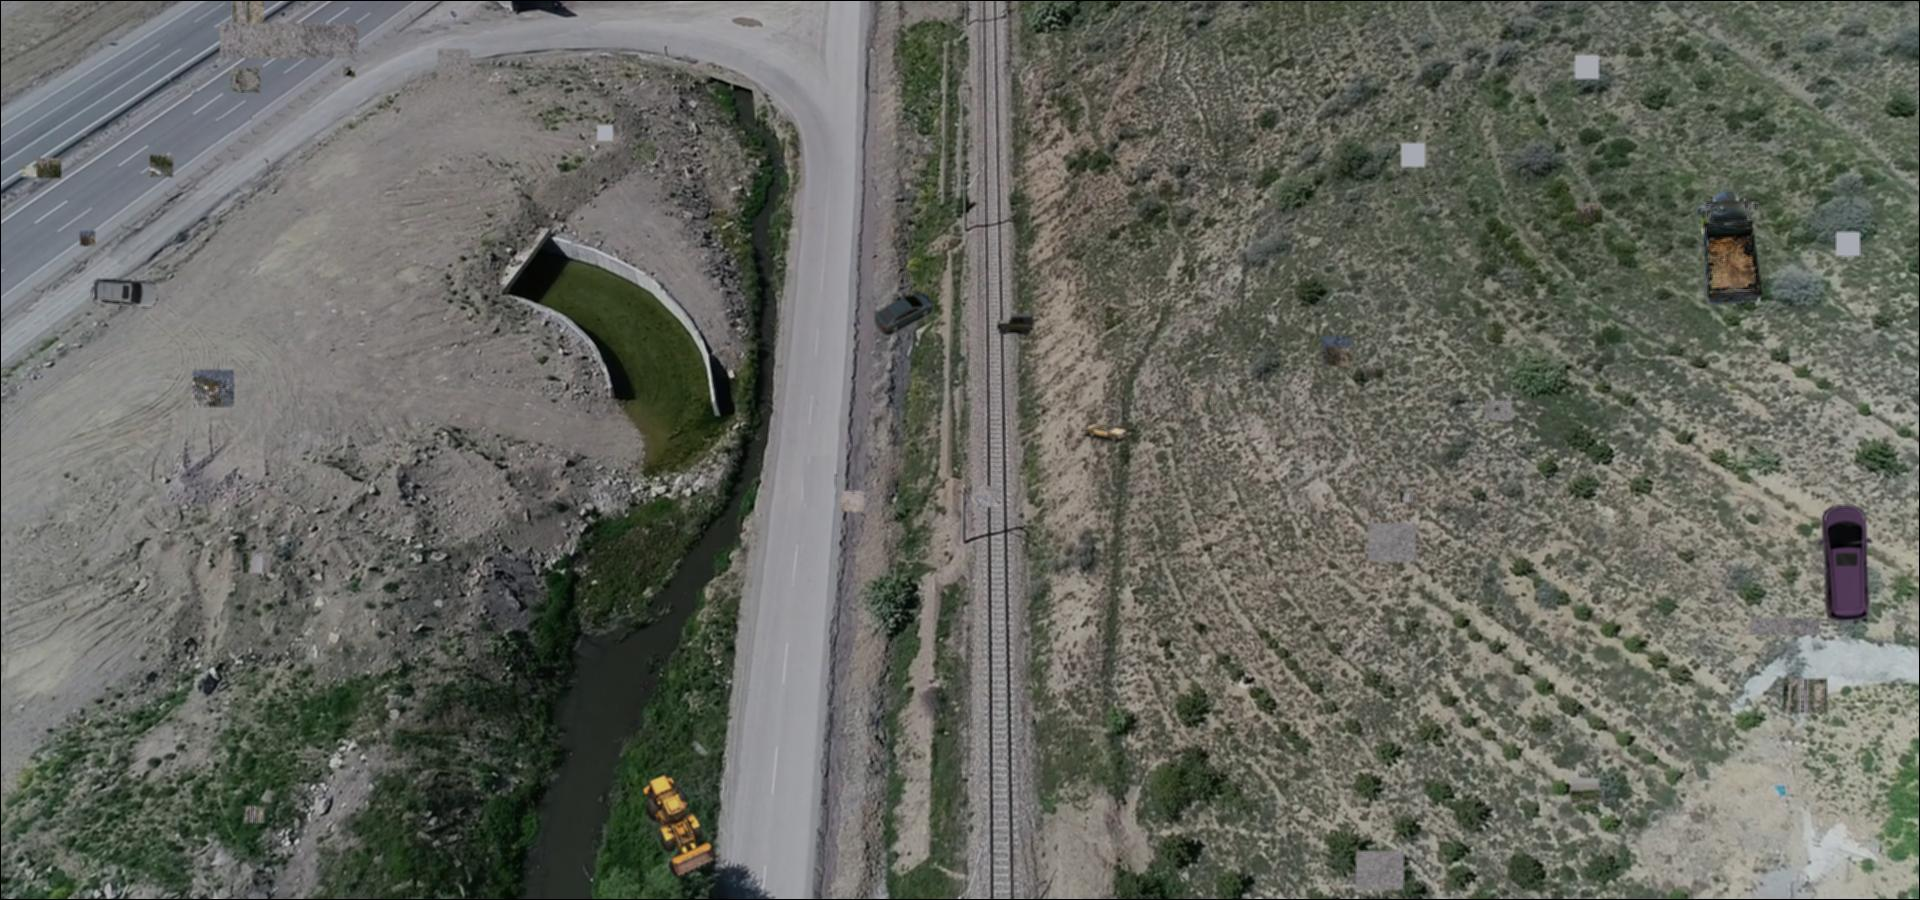arac: (634, 774, 722, 878), (1693, 186, 1767, 306), (1818, 503, 1873, 624), (873, 291, 936, 336), (91, 278, 159, 310), (1084, 422, 1127, 442), (997, 313, 1033, 336)
